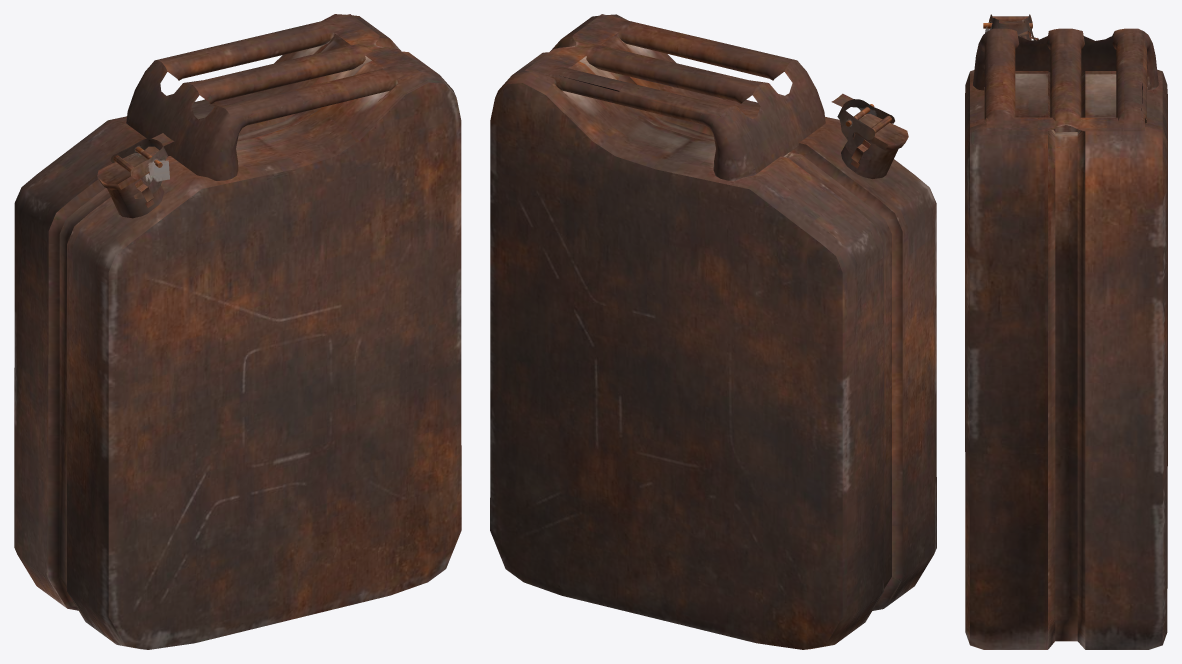
Rendered from jerry_can_02.glb.
3 renders of one model, left to right at view 1: azimuth 30°, elevation 25°; view 2: azimuth 150°, elevation 25°; view 3: azimuth 270°, elevation 25°, orthographic. The views are drawn at different scales.
Visible parts, largest first — view 1: jerry_can_02; view 2: jerry_can_02; view 3: jerry_can_02.
Boxes of the visible parts, left/top/right/bottom form: jerry_can_02: left=14, top=14, right=461, bottom=649; jerry_can_02: left=490, top=14, right=936, bottom=649; jerry_can_02: left=965, top=14, right=1167, bottom=649.
Size of what is drawn, in the model's own units: 0.3432 by 0.47 by 0.1627.
Materials: 1 (1 with a texture image).
